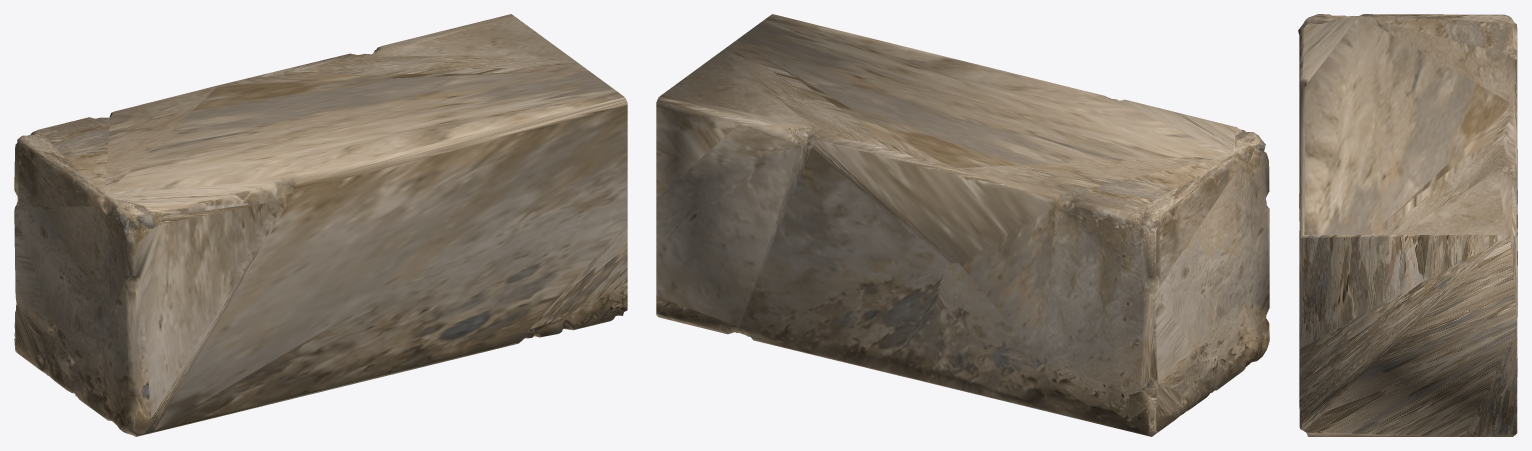
Rendered from shallow-irrigation-bank-end-left.glb.
The picture shows the model from 3 angles, left to right: view 1: azimuth 30°, elevation 25°; view 2: azimuth 150°, elevation 25°; view 3: azimuth 270°, elevation 25°; orthographic projection. The views are drawn at different scales.
Parts seen in each view (by area): view 1: shallow-irrigation-bank-end-left; view 2: shallow-irrigation-bank-end-left; view 3: shallow-irrigation-bank-end-left.
Part boxes in pixels (bbox=[...]): shallow-irrigation-bank-end-left: bbox=[14, 14, 627, 436]; shallow-irrigation-bank-end-left: bbox=[656, 14, 1269, 436]; shallow-irrigation-bank-end-left: bbox=[1298, 14, 1517, 436].
Size of the model in its own units: 0.95 by 0.4005 by 0.3945.
Materials: 1 (1 with a texture image).
